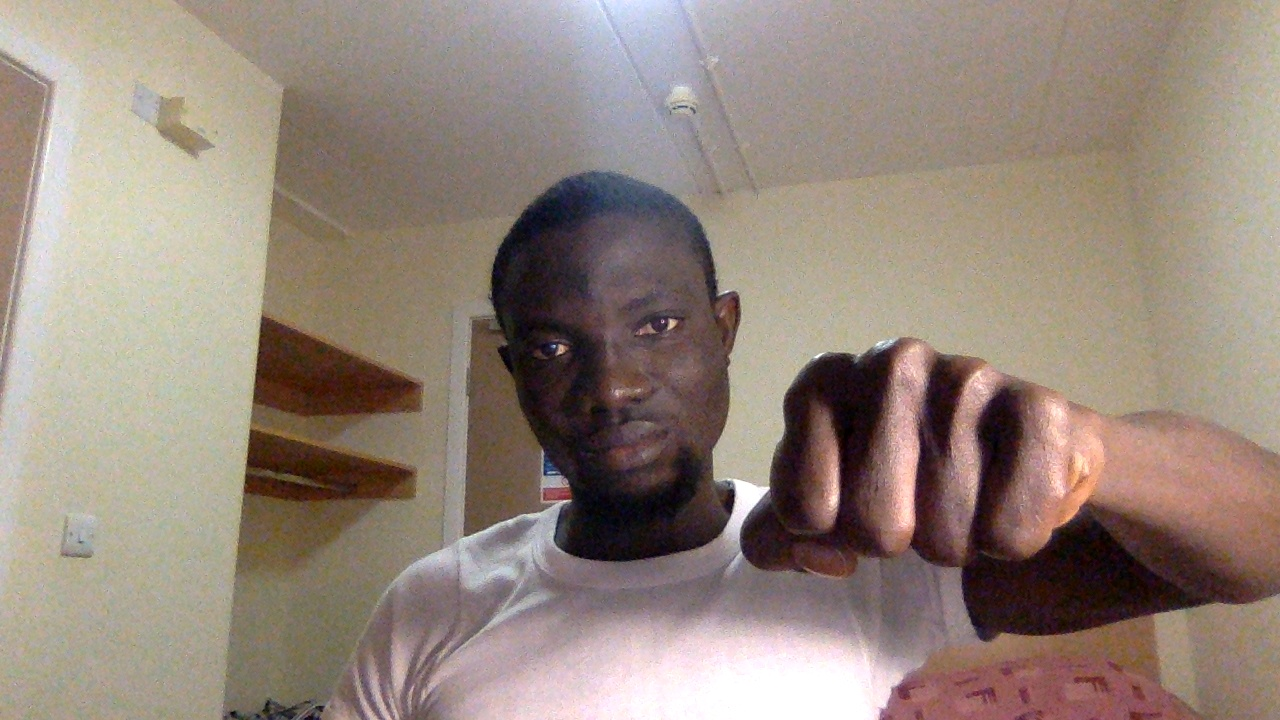Yes: (736, 313, 1125, 585)
